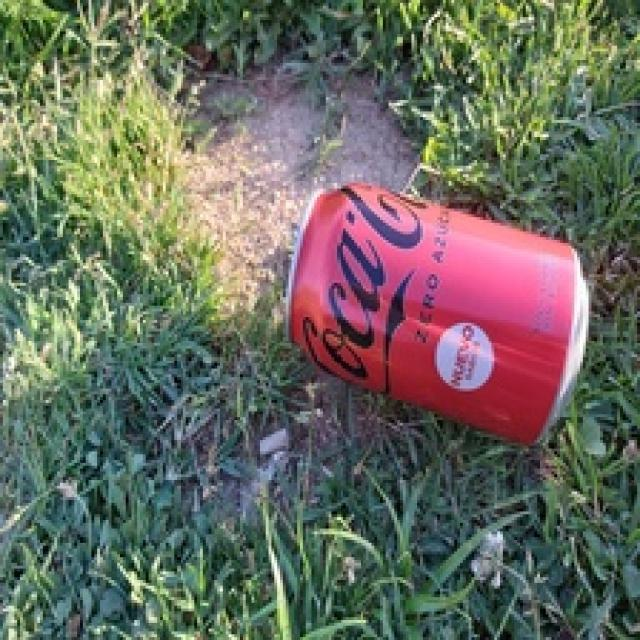recyclable: (286, 180, 589, 450)
